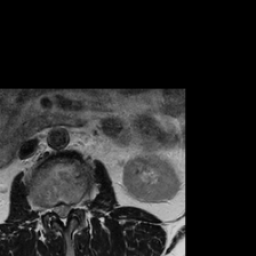CCS_normal: (59, 197, 65, 229)
LFS_stenosis: (72, 196, 79, 217)
LLS_stenosis: (65, 197, 72, 218)
RFS_stenosis: (46, 199, 52, 218)
RLS_stenosis: (52, 198, 59, 219)
